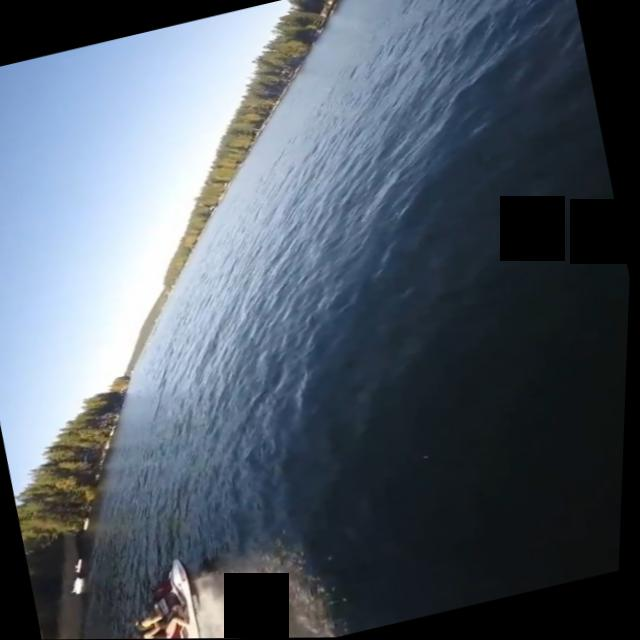Vehicle: (106, 552, 239, 639)
